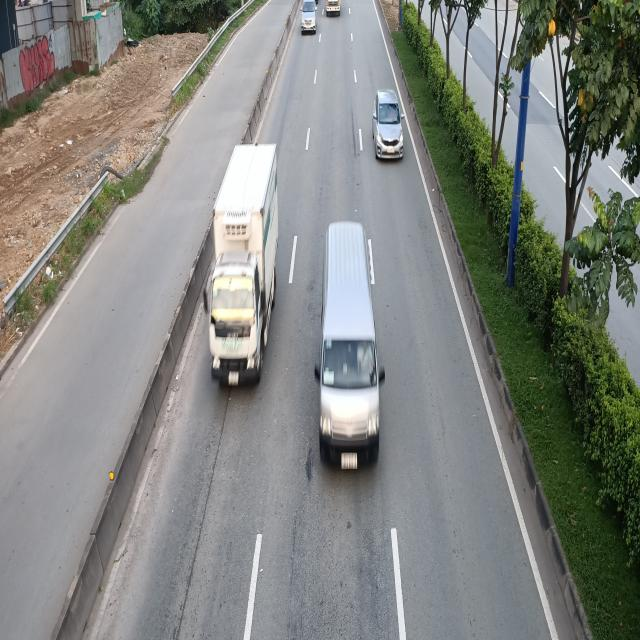car: (372, 89, 404, 160), (300, 0, 318, 34)
truck: (202, 146, 278, 387)
van: (314, 223, 386, 468)
